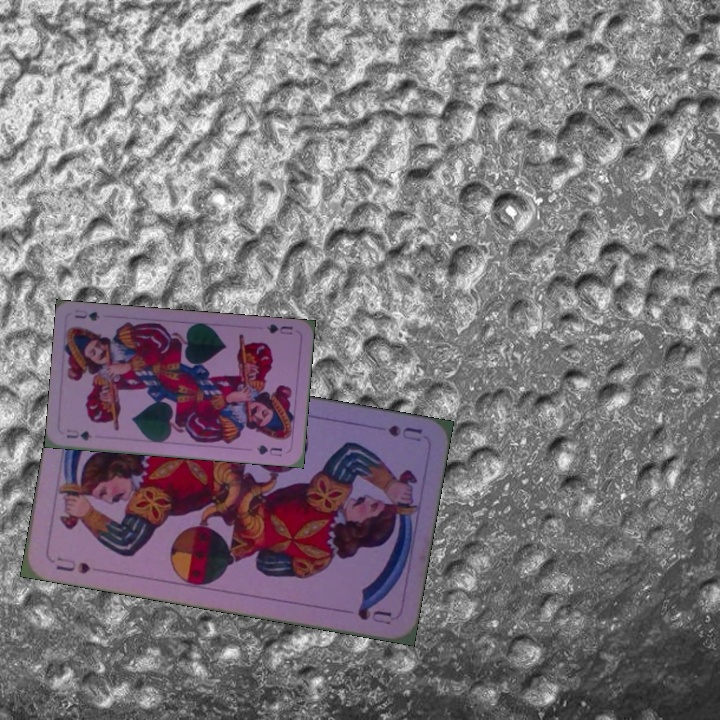GU: (62, 425, 94, 443), (262, 320, 295, 337)
SU: (384, 420, 425, 445), (52, 552, 93, 576)
